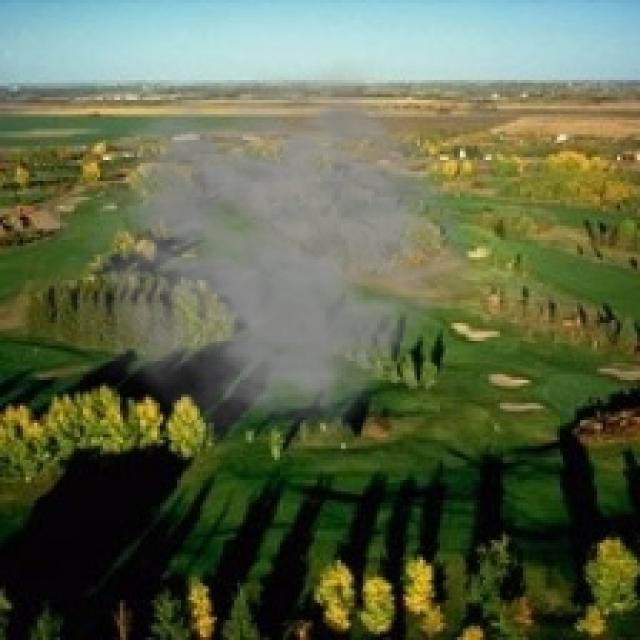Smoke: (52, 60, 474, 457)
